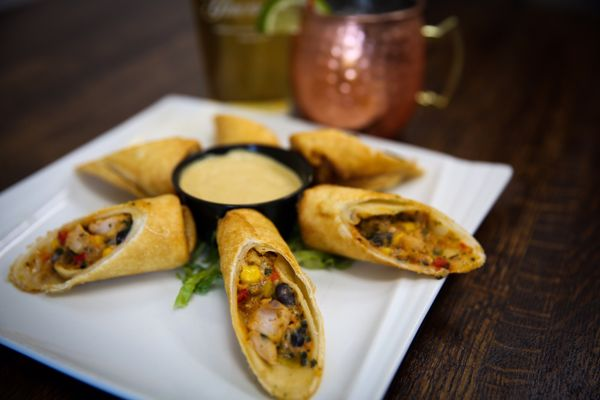pasta: (295, 184, 487, 278)
pizza: (192, 0, 298, 102)
soup: (215, 207, 327, 397)
